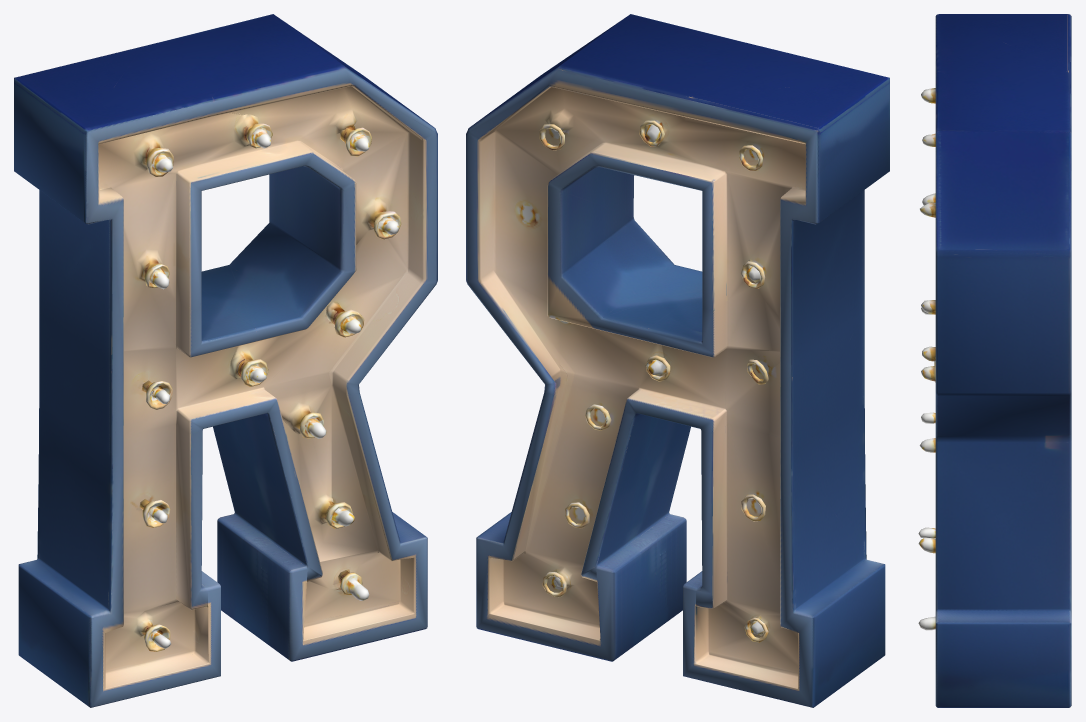
The model's file is Letter_r.glb.
3 views of the same model, side by side, from view 1: azimuth 30°, elevation 25°; view 2: azimuth 150°, elevation 25°; view 3: azimuth 270°, elevation 25° (orthographic). The views are drawn at different scales.
Parts seen in each view (by area): view 1: Mesh_0.003; view 2: Mesh_0.003; view 3: Mesh_0.003.
Boxes of the visible parts, x1,y1,x2,y2 form: Mesh_0.003: (14,14,437,707); Mesh_0.003: (466,14,889,707); Mesh_0.003: (918,14,1071,707).
Bounding box in the file's own units: 0.5802 × 0.9144 × 0.2347.
1 material, 1 textured.
